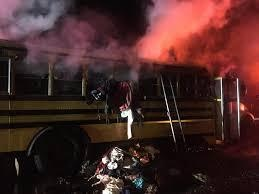fire: (141, 0, 259, 71)
